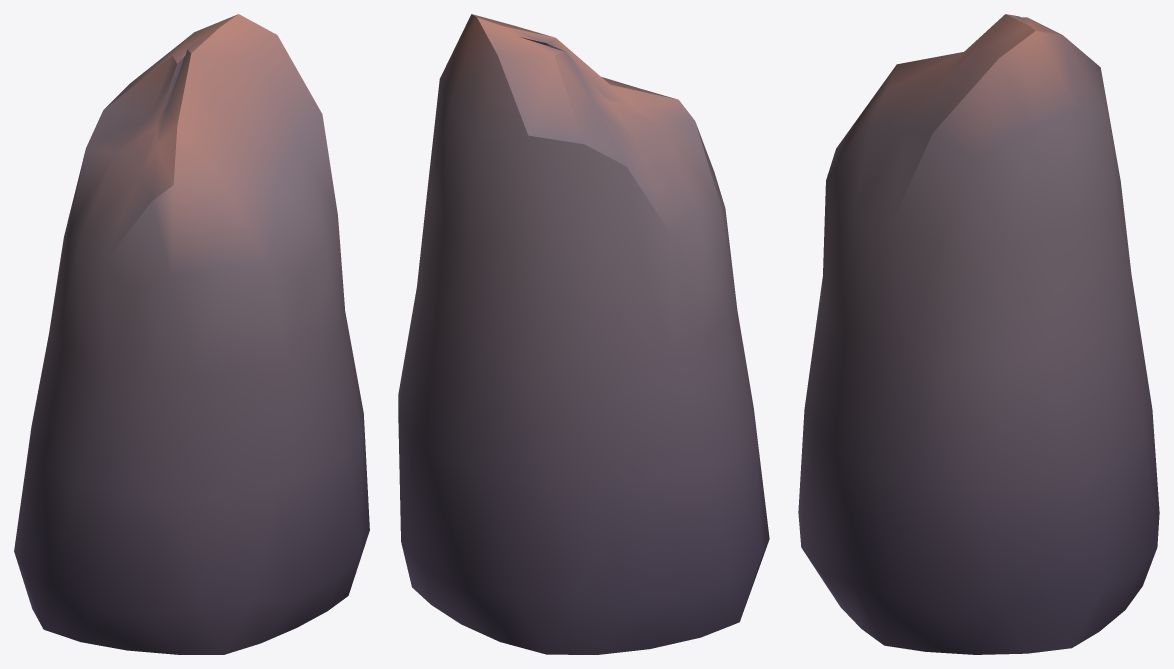
Rendered from Rock_Pillar.glb.
The picture shows the model from 3 angles, left to right: view 1: azimuth 30°, elevation 25°; view 2: azimuth 150°, elevation 25°; view 3: azimuth 270°, elevation 25°; orthographic projection. The views are drawn at different scales.
Parts seen in each view (by area): view 1: Rock_Pillar; view 2: Rock_Pillar; view 3: Rock_Pillar.
Part boxes in pixels (x1,y1,x2,y2): Rock_Pillar: [14, 14, 369, 654]; Rock_Pillar: [398, 14, 769, 654]; Rock_Pillar: [798, 14, 1159, 654].
Bounding box in the file's own units: 1.68 × 2.77 × 1.53.
